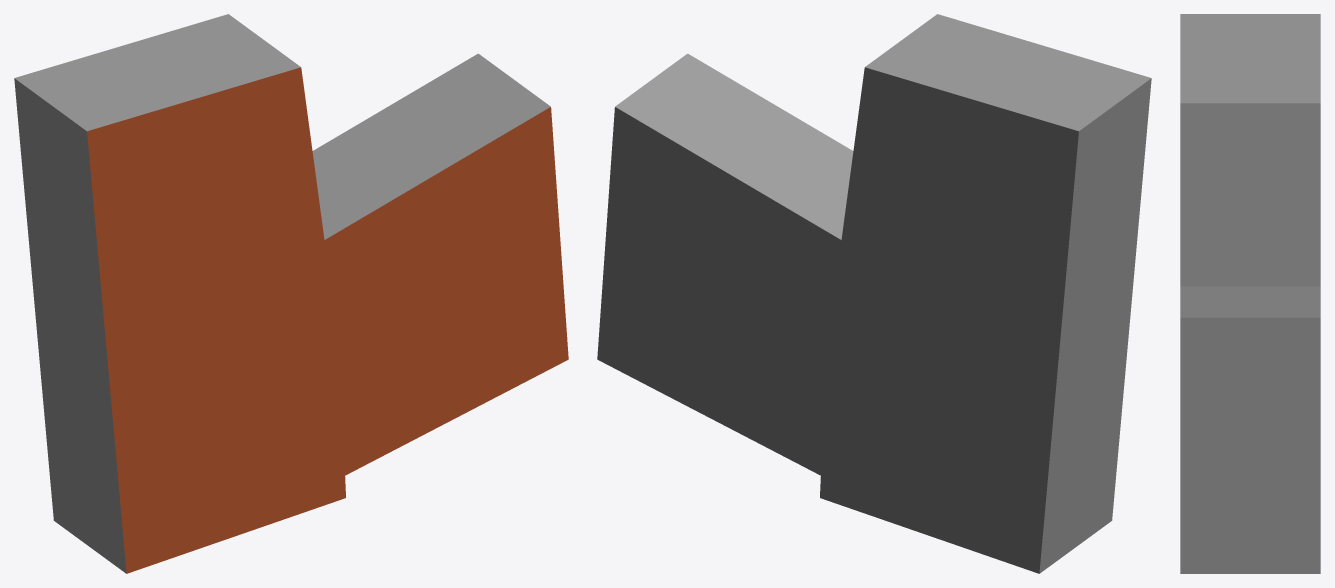
The model's file is construction_4940_assumed_A_Casa_h6m.obj.
3 renders of one model, left to right at view 1: azimuth 30°, elevation 25°; view 2: azimuth 150°, elevation 25°; view 3: azimuth 270°, elevation 25°, orthographic. The views are drawn at different scales.
Parts seen in each view (by area): view 1: construction_4940_assumed_A_Casa; view 2: construction_4940_assumed_A_Casa; view 3: construction_4940_assumed_A_Casa.
Part boxes in pixels (x1=…): construction_4940_assumed_A_Casa: x1=14, y1=14, x2=568, y2=573; construction_4940_assumed_A_Casa: x1=597, y1=14, x2=1151, y2=573; construction_4940_assumed_A_Casa: x1=1180, y1=14, x2=1320, y2=573.
Bounding box in the file's own units: 22.94 × 21.12 × 6.
